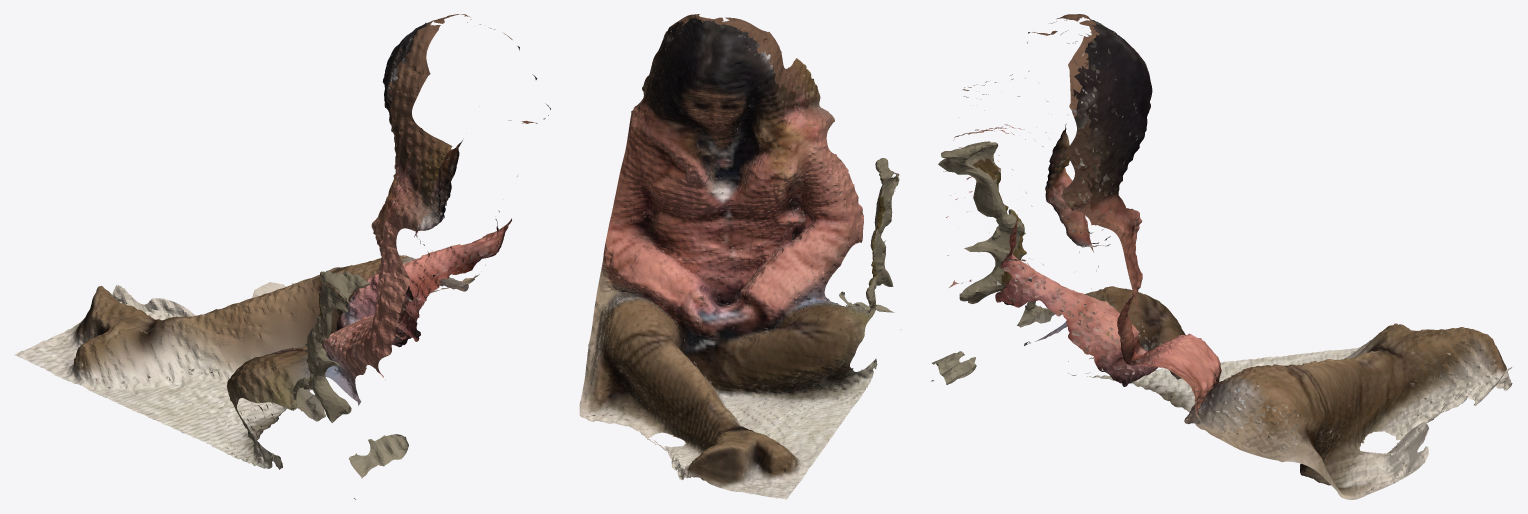
3 renders of one model, left to right at view 1: azimuth 30°, elevation 25°; view 2: azimuth 150°, elevation 25°; view 3: azimuth 270°, elevation 25°, orthographic. The views are drawn at different scales.
Size of the model in its own units: 0.7169 by 0.774 by 0.8977.
1 material, 1 textured.
